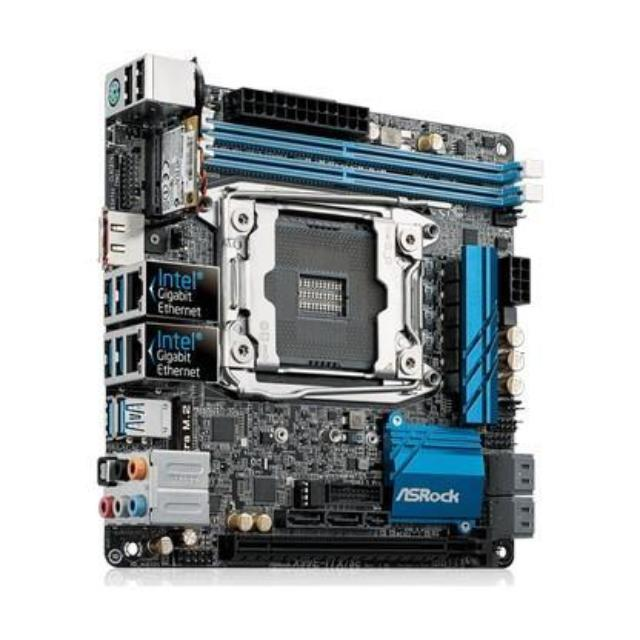Mainboard: (87, 48, 544, 588)
